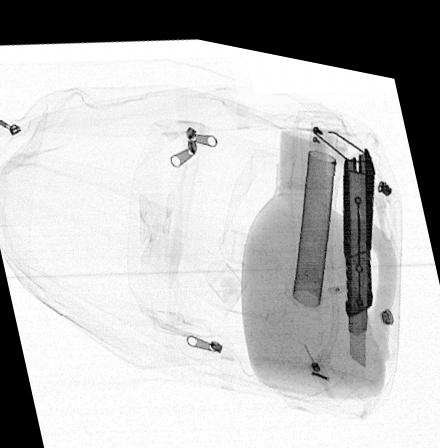Knife: (342, 132, 375, 353)
